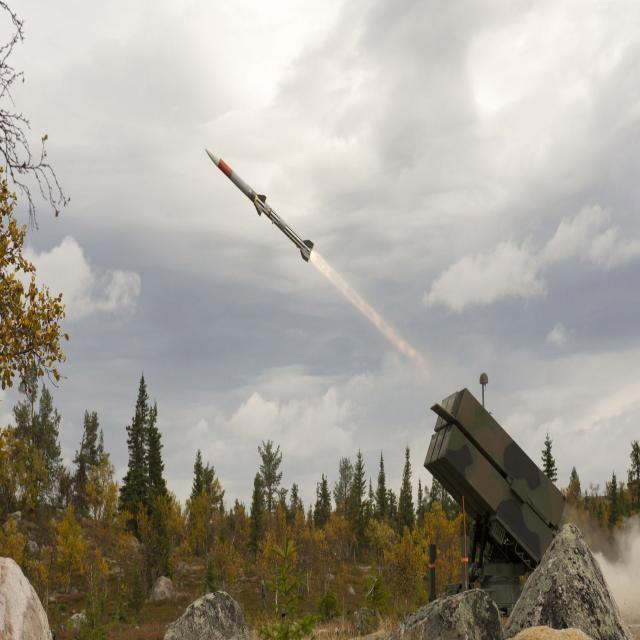Missile: (206, 133, 321, 275)
